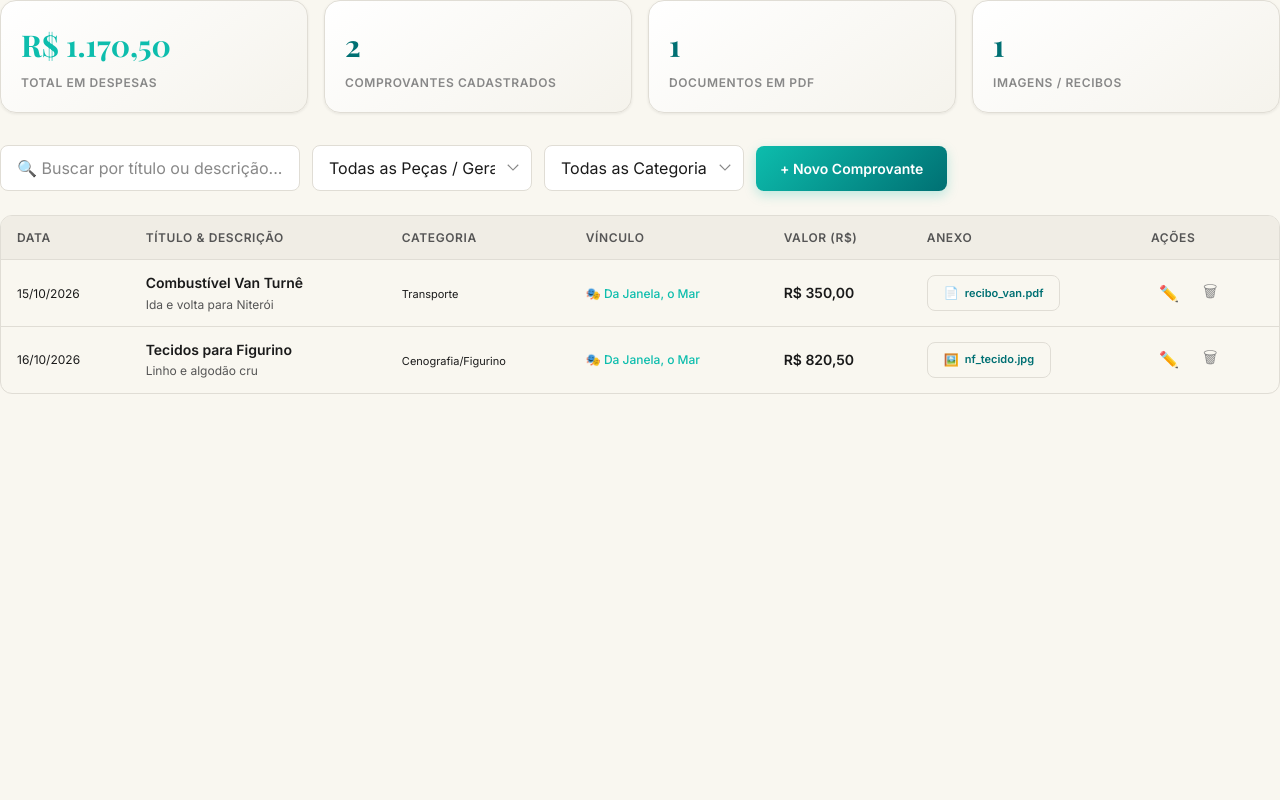
AbaComprovantes Component › deve abrir o modal de cadastro ao clicar no botão "Novo Comprovante"
Click the button "+ Novo Comprovante".
click(852, 168)  # box [756,146,947,191]
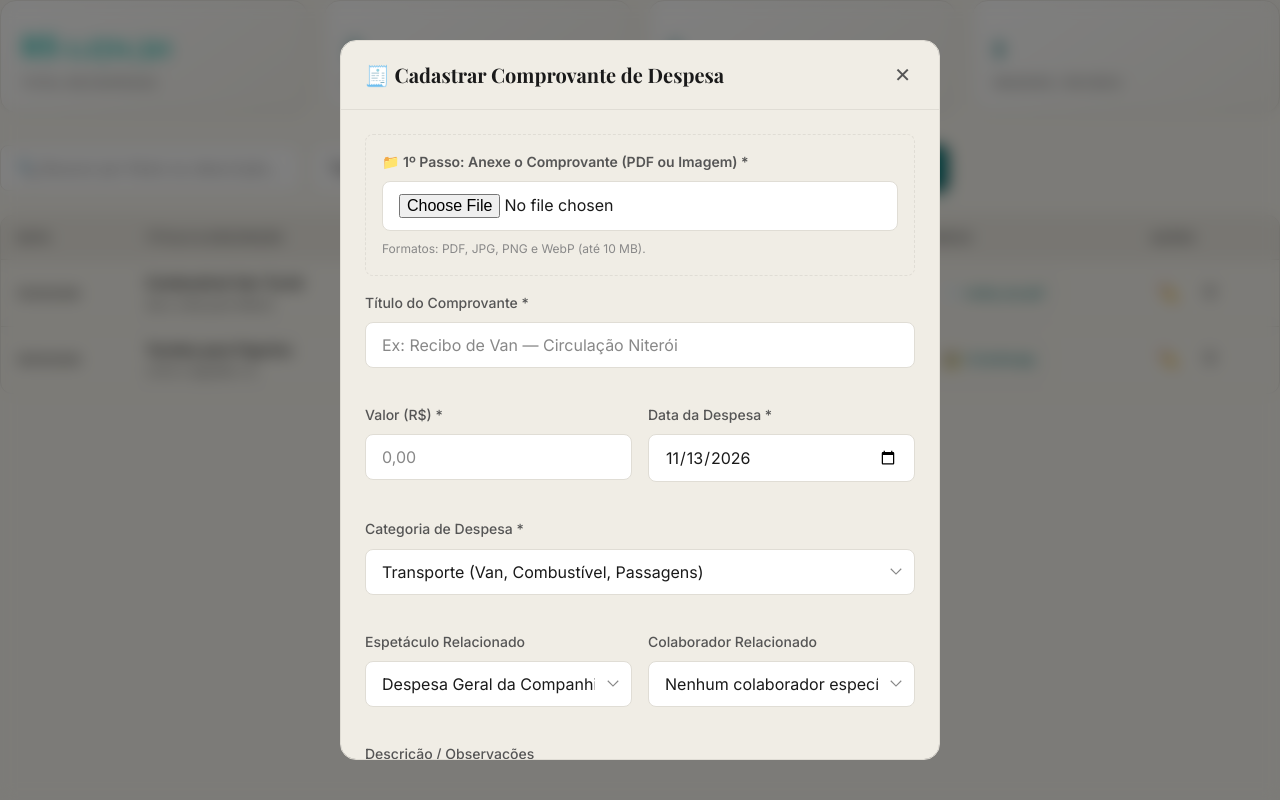
Now the heading "🧾 Cadastrar Comprovante de Despesa" is shown, box [365,63,724,87]
Now the field labelled "Título do Comprovante *" is shown, box [365,322,915,368]
